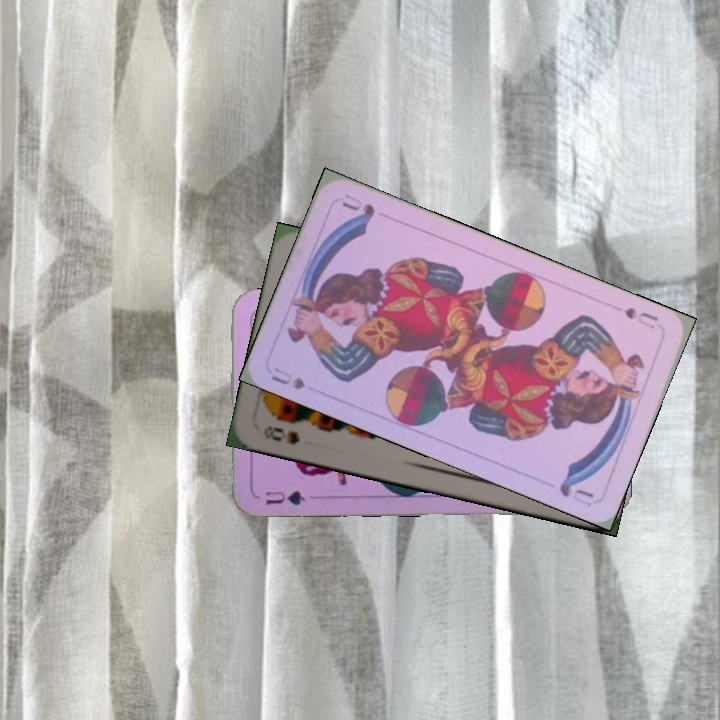GU: (261, 486, 310, 508)
S8: (259, 422, 302, 447)
SU: (608, 301, 661, 332), (267, 363, 308, 393)
